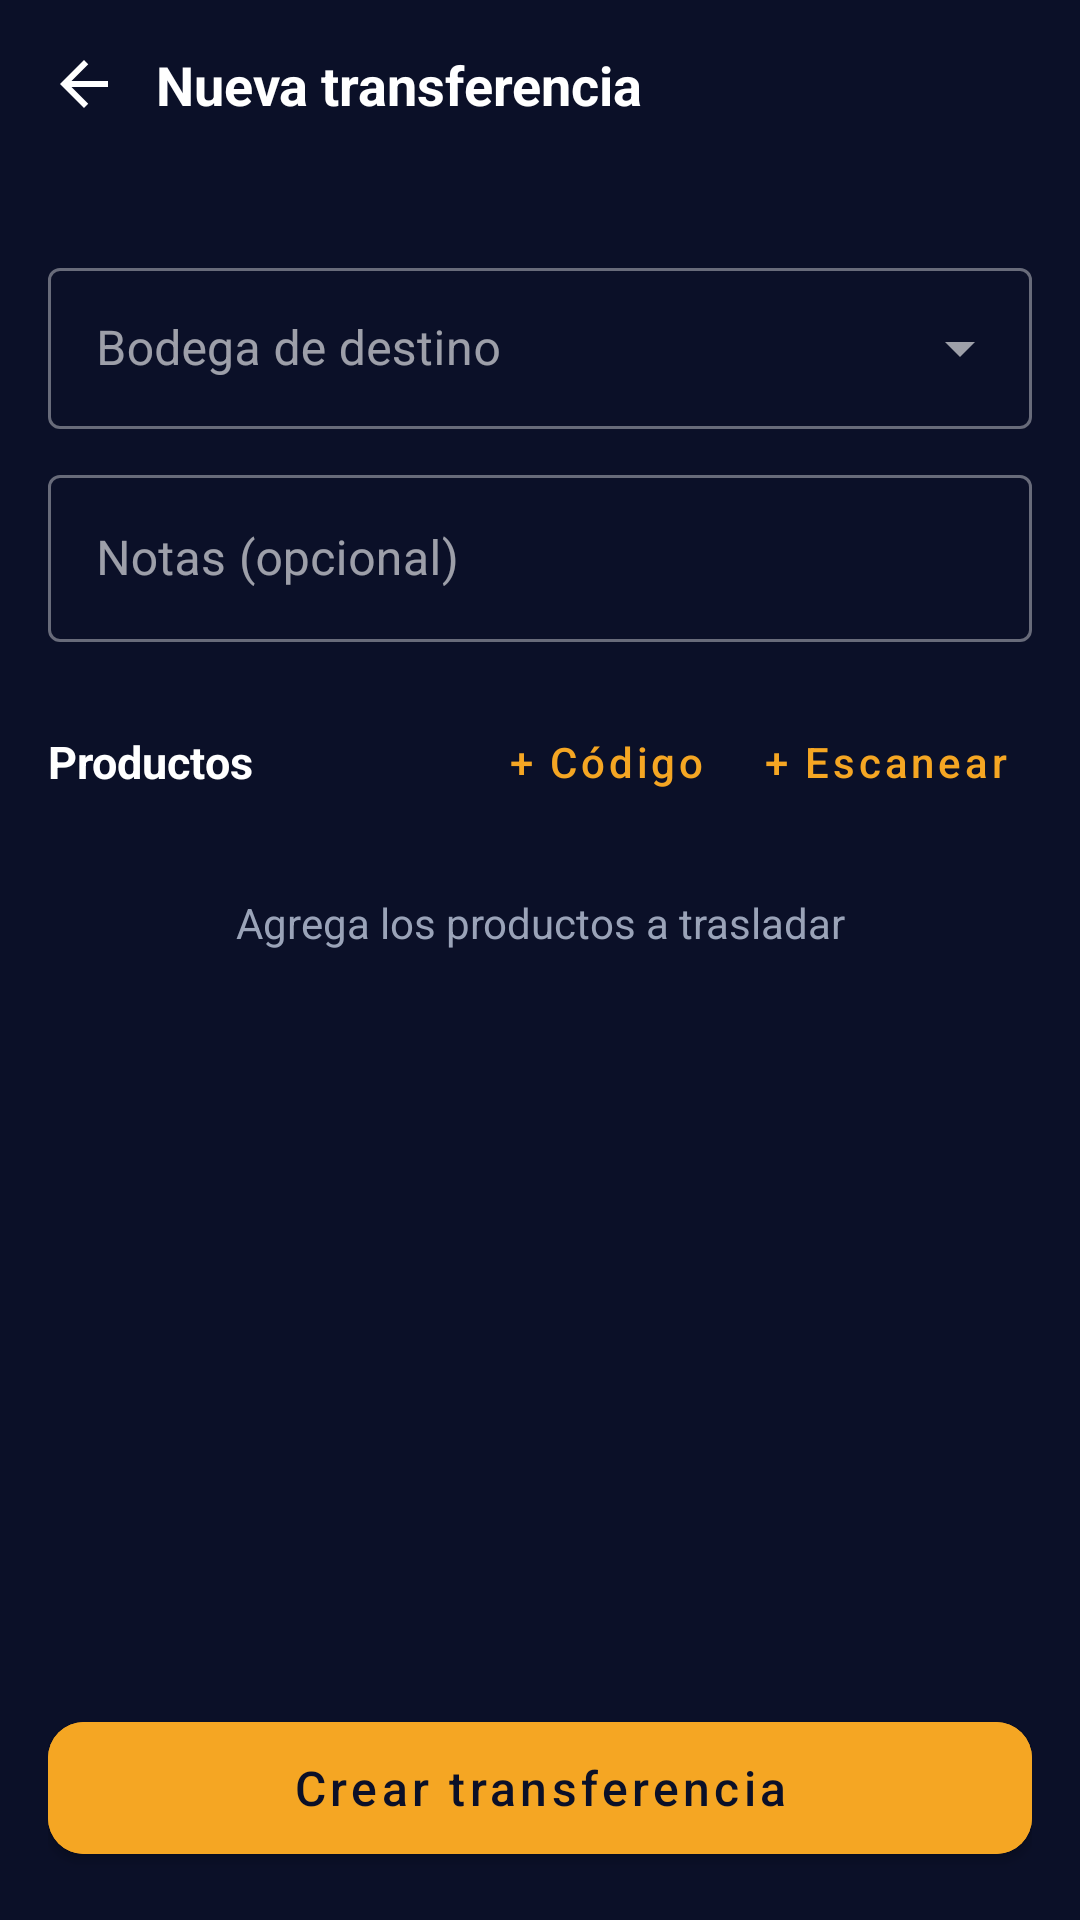

Where icons sit on this 1080×1920 app screen, as (x1, y1, x2, y2):
Volver: (60, 60, 108, 108)
